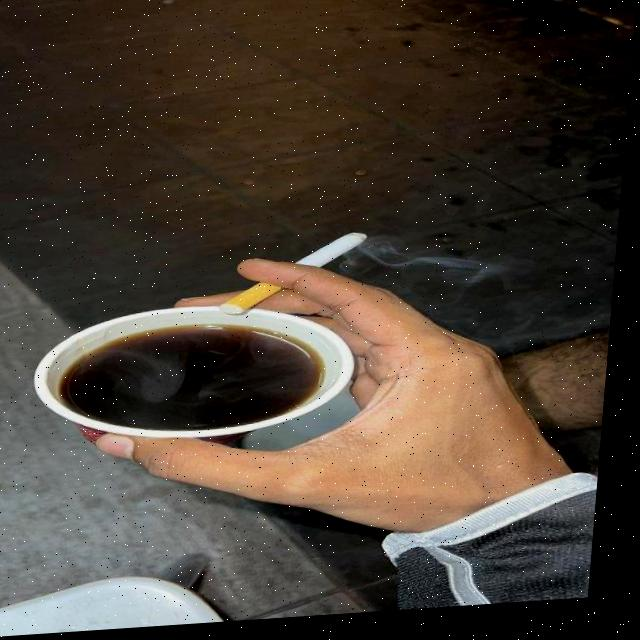cigarette: (225, 233, 373, 322)
